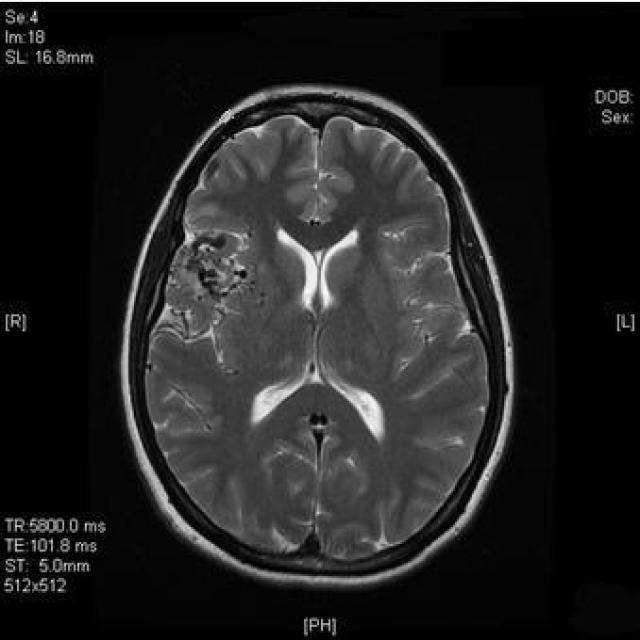notumor: (123, 87, 517, 597)
